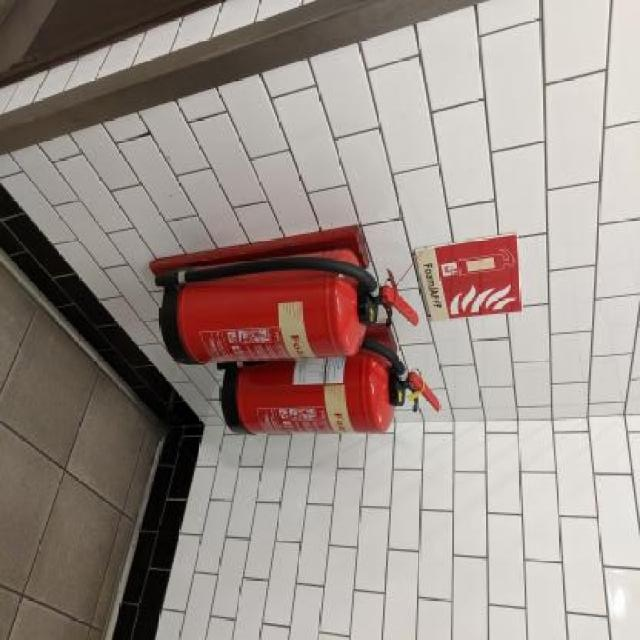fire extinguisher: (155, 248, 419, 367), (221, 338, 441, 433)
